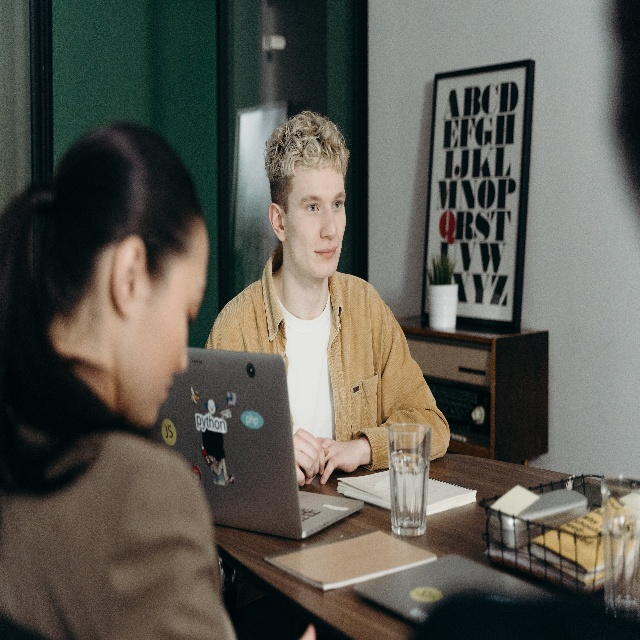Sin_guantes: (313, 434, 362, 481), (292, 425, 326, 485)
